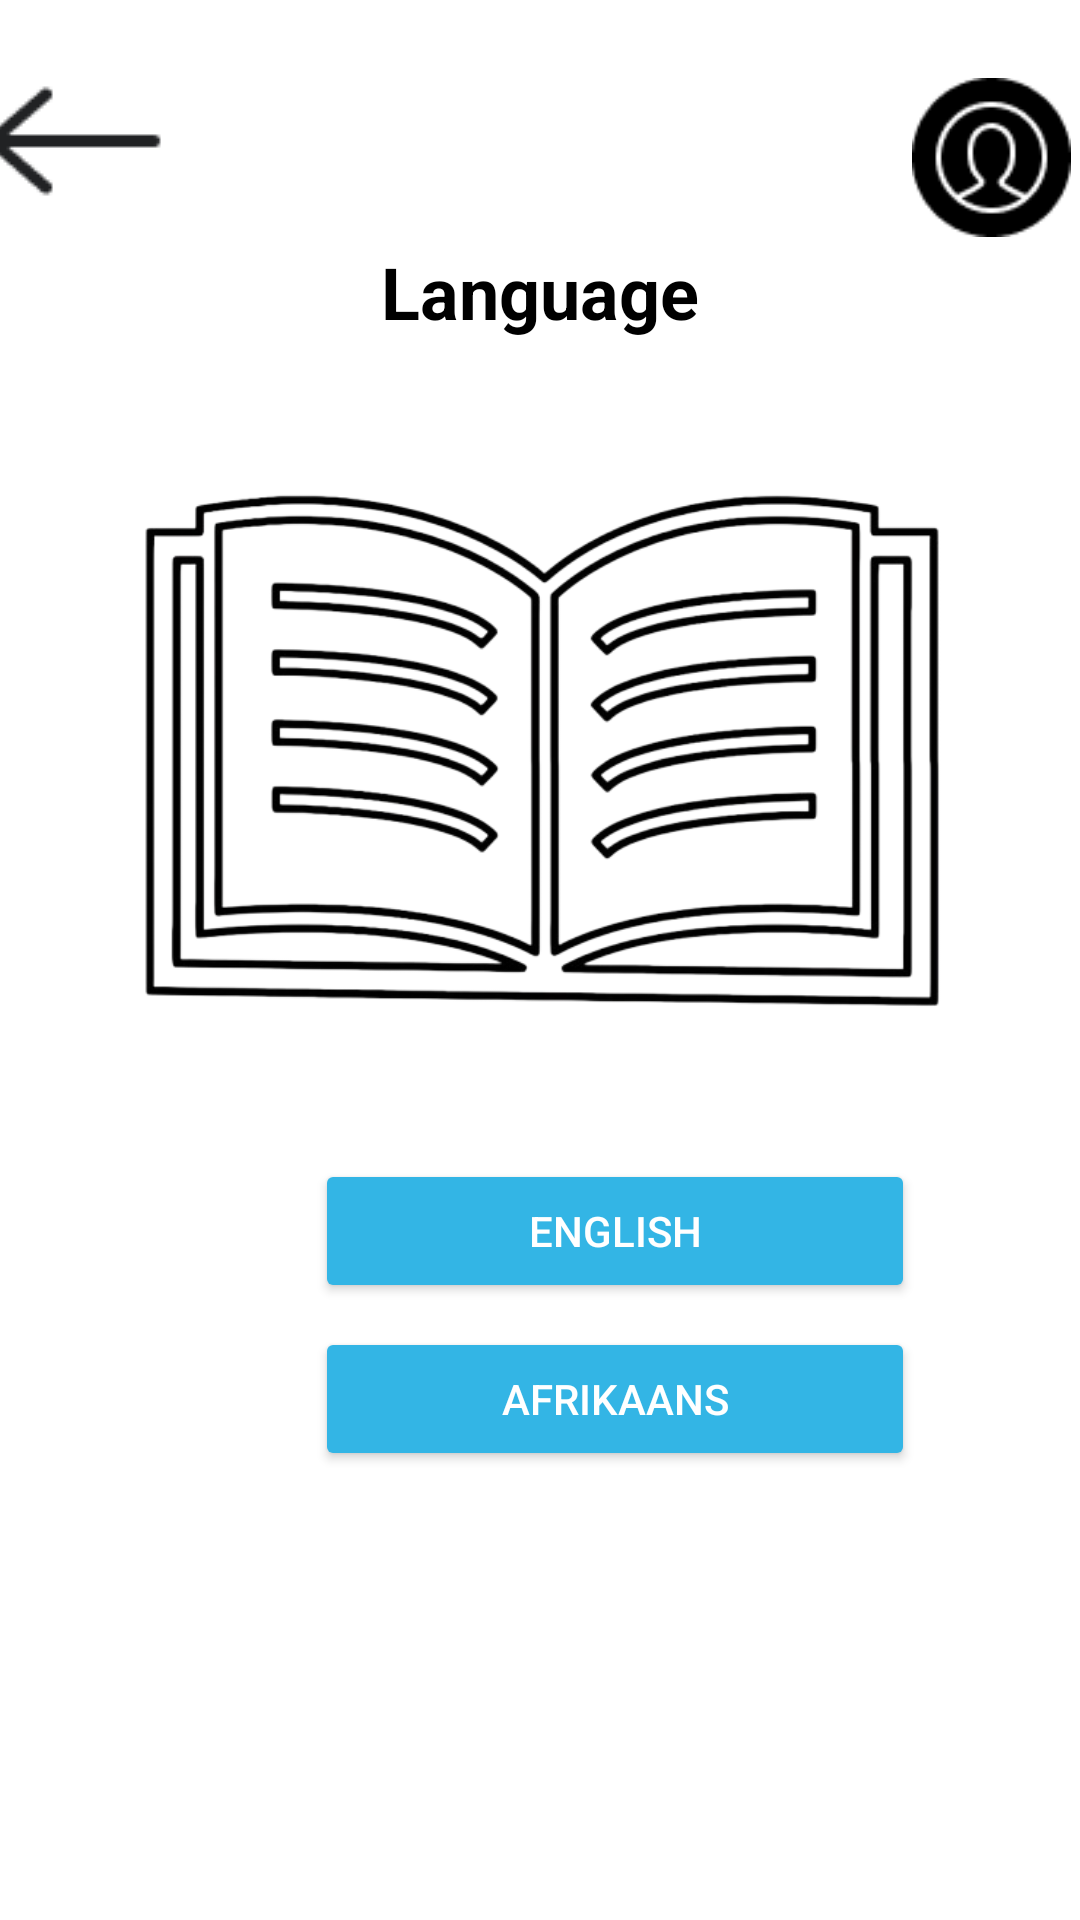

Icon bounding boxes for this 1080 × 1920 phone screenshot, format (x1, y1, x2, y2):
Profile Icon: (912, 78, 1071, 237)
